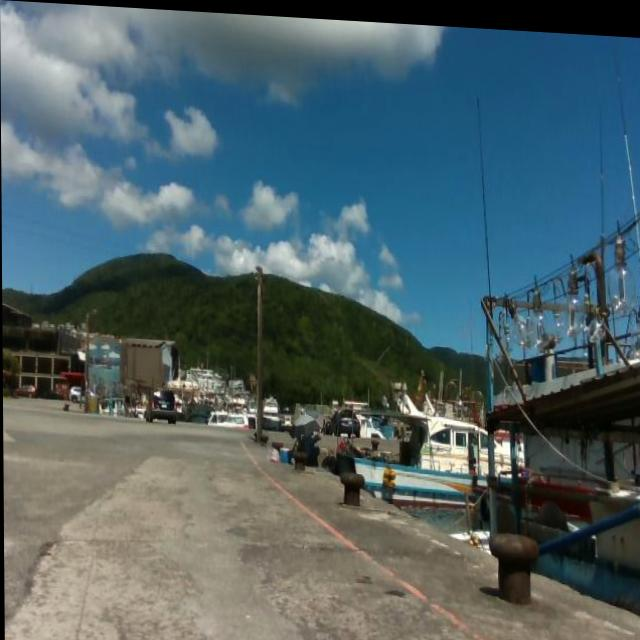pollute: (268, 441, 279, 461)
